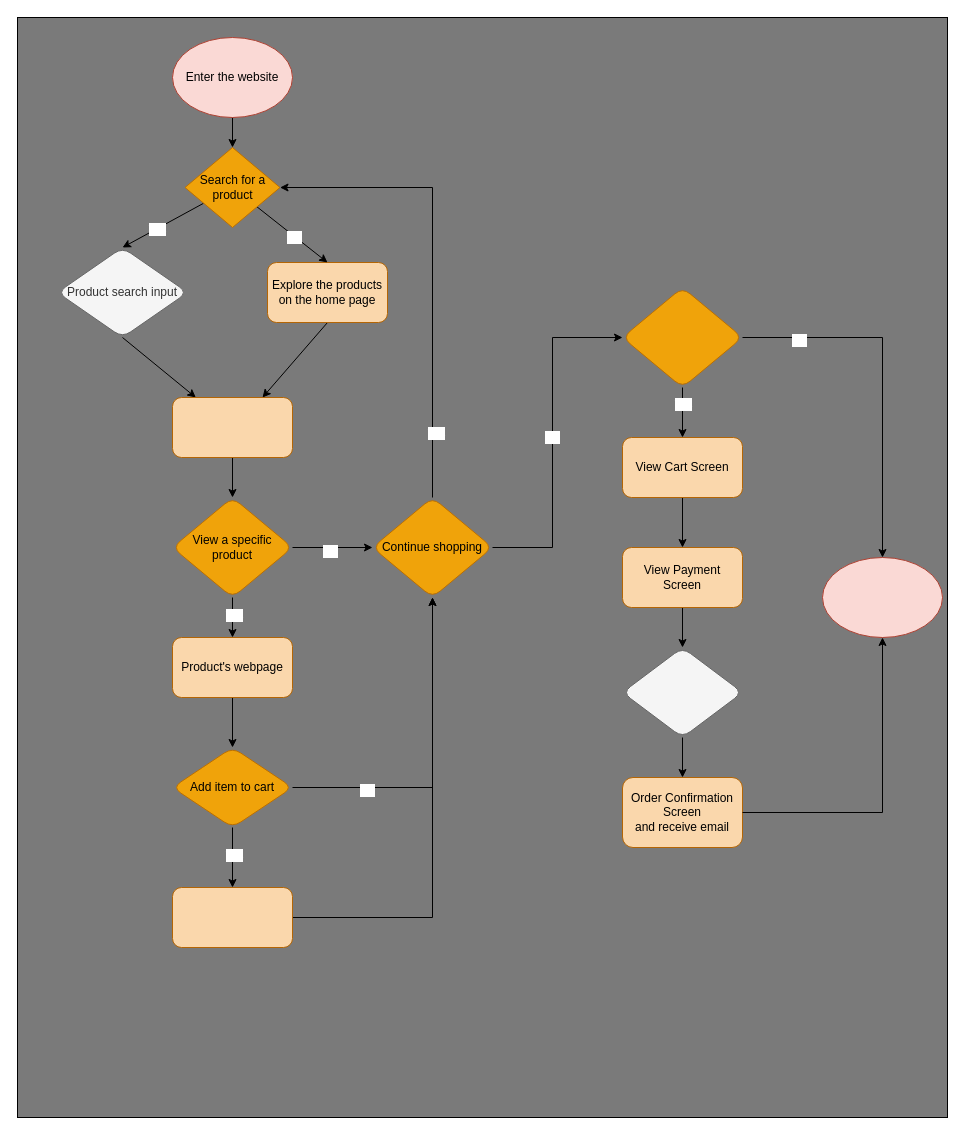
The diagram is 965 pixels wide and 1135 high, and some of its shapes have lost their labels. Here are the shapes that lost their labels. From the top down, the centre of each, then its label:
At (x=682, y=337): "Checkout".
At (x=232, y=427): "Look over products".
At (x=882, y=597): "Leave the website".
At (x=682, y=692): "Input payment information".
At (x=232, y=917): "Added to cart confirmation".
